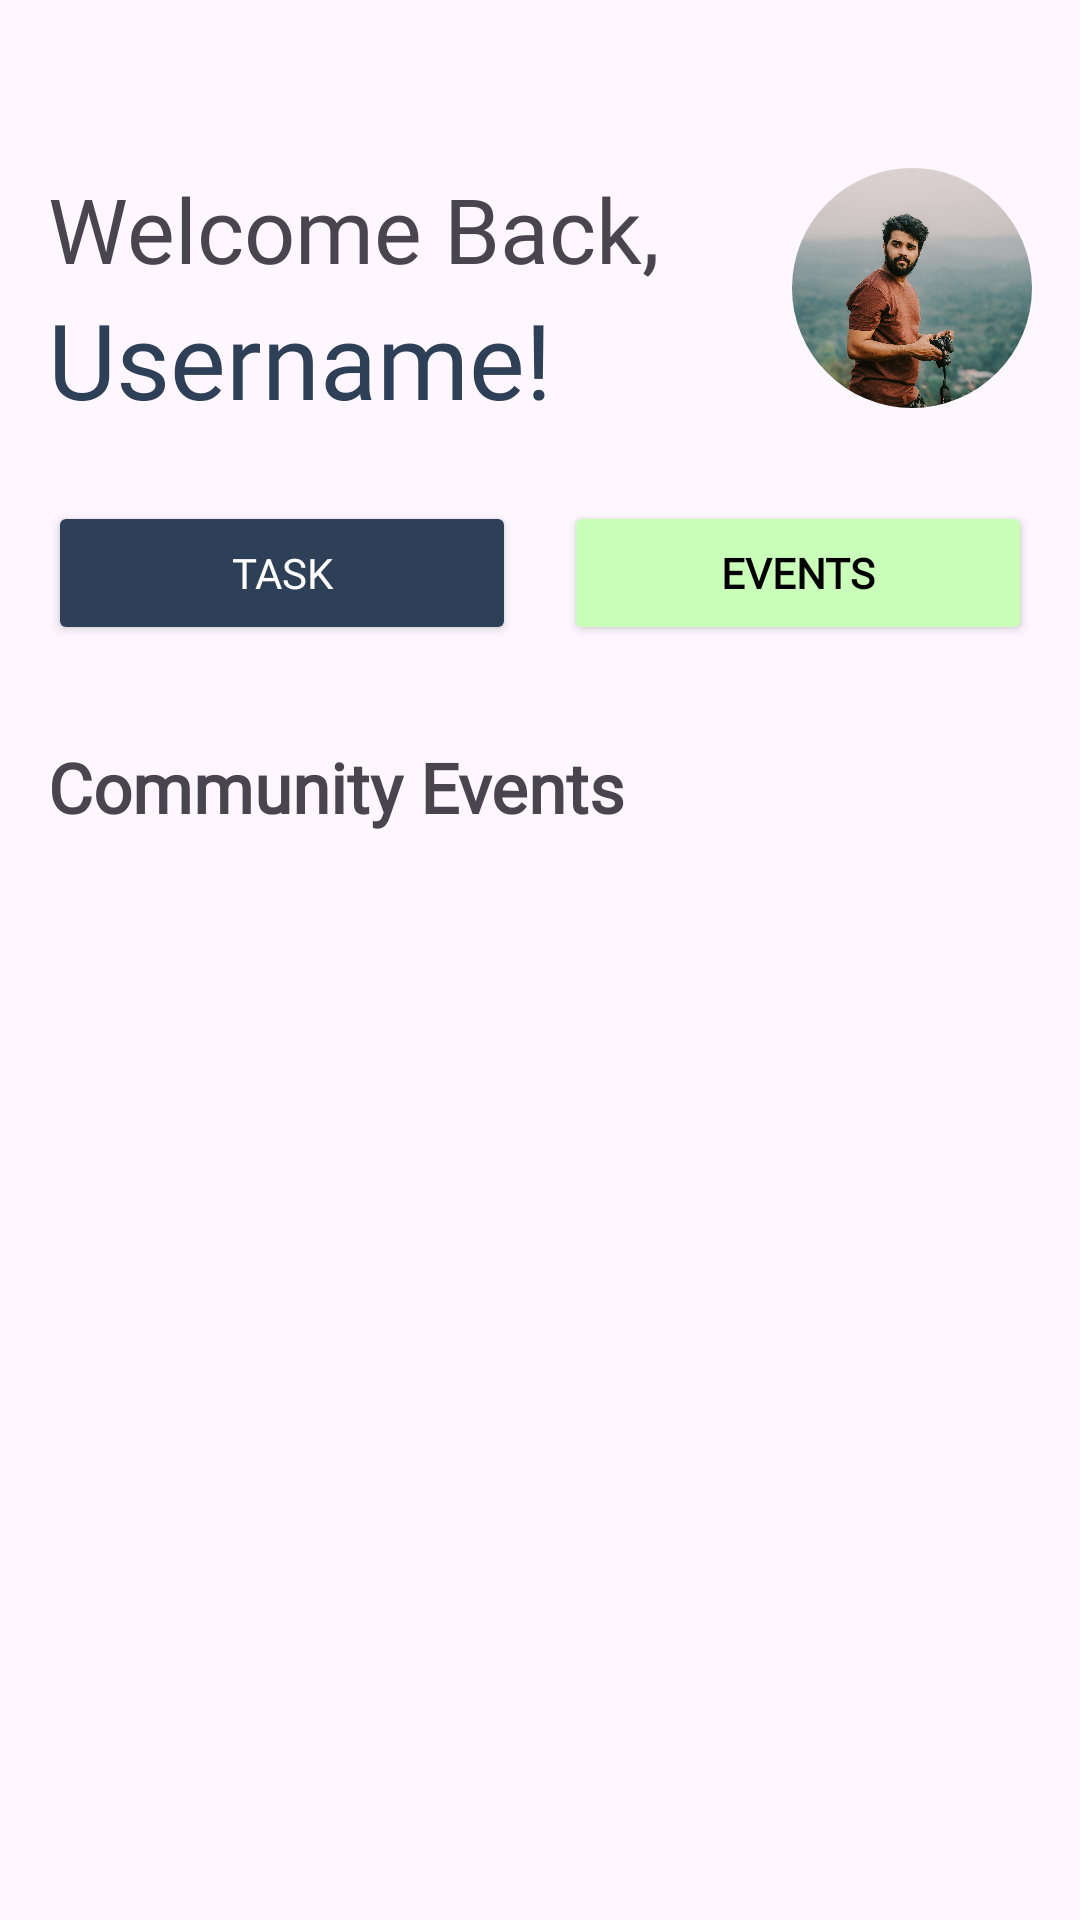

Point at icon controls on the screen. Image size 1080*1920, points as (x=x, y=y).
User Profile: (x=912, y=288)
